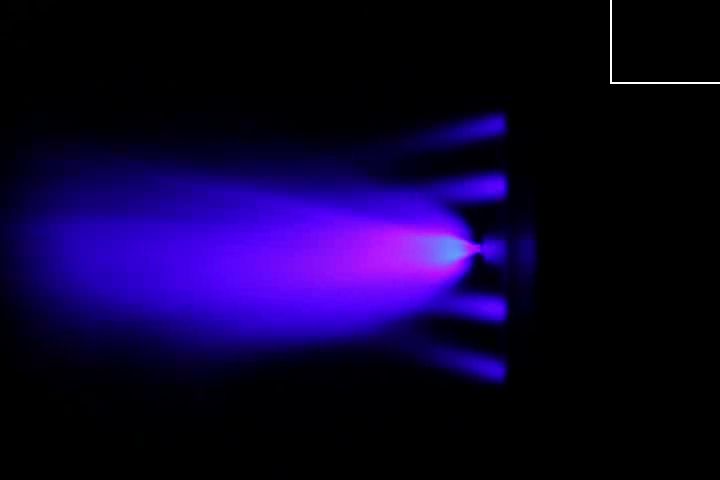burner cap: (483, 235, 508, 270)
pilot flame: (404, 336, 508, 385), (422, 112, 512, 145), (426, 166, 505, 203), (432, 291, 507, 324)
stable: (379, 220, 477, 277)
